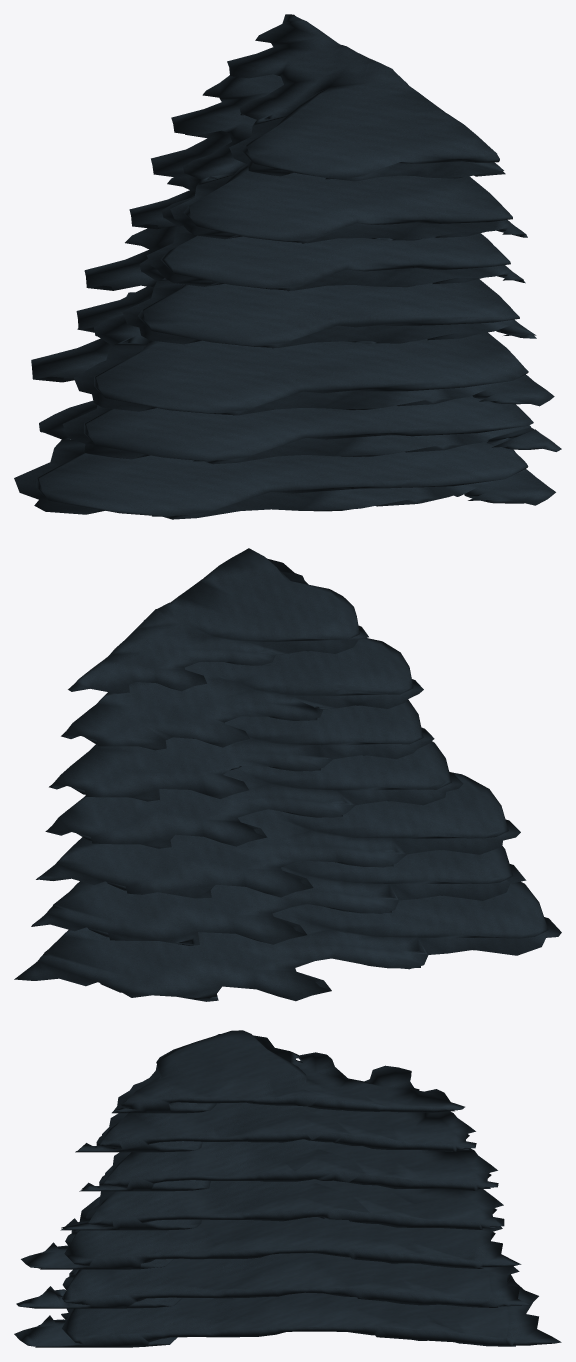
File: slate-v0-last-lod0.gltf
3 views of the same model, one above another, from view 1: azimuth 30°, elevation 25°; view 2: azimuth 150°, elevation 25°; view 3: azimuth 270°, elevation 25° (orthographic). The views are drawn at different scales.
Parts seen in each view (by area): view 1: slate-v0-last-lod0; view 2: slate-v0-last-lod0; view 3: slate-v0-last-lod0.
Boxes of the visible parts, x1,y1,x2,y2 form: slate-v0-last-lod0: (14,14,561,519); slate-v0-last-lod0: (14,548,561,1001); slate-v0-last-lod0: (14,1030,561,1347).
Bounding box in the file's own units: 0.7 × 0.5048 × 0.9915.
1 material, 1 textured.
